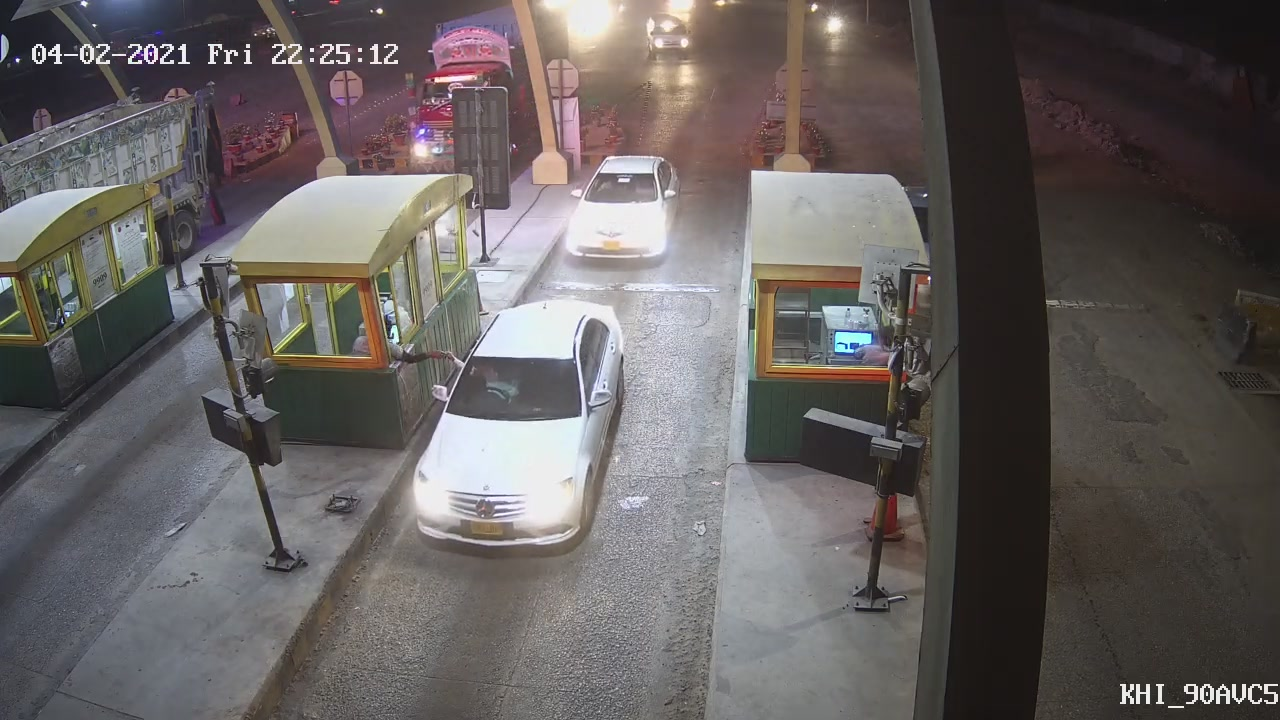F1: (408, 293, 628, 563), (562, 146, 681, 264)
